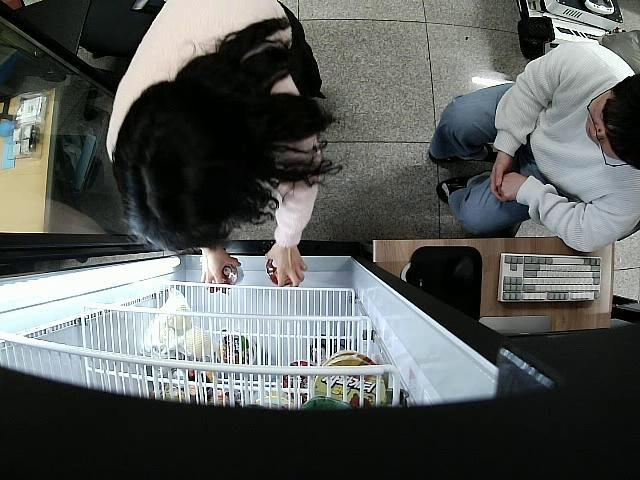06_nuguri_S: (212, 267, 244, 292), (266, 260, 292, 286)
